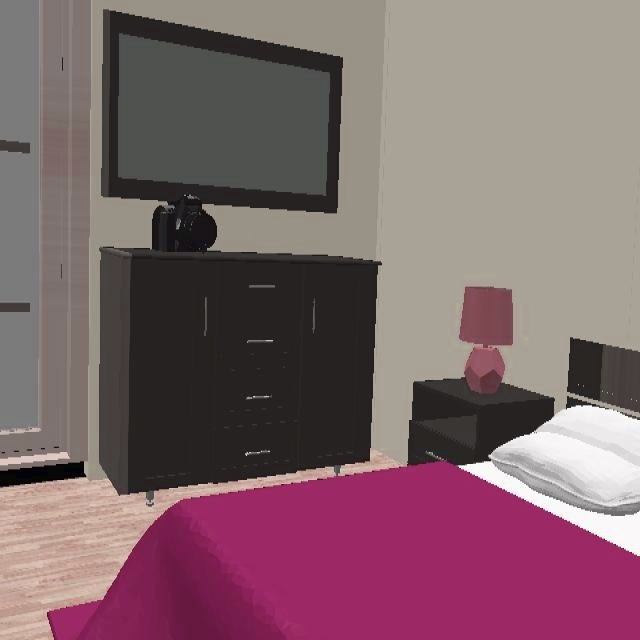bed: (48, 337, 640, 640)
cabinet: (96, 251, 376, 495)
lamp: (458, 287, 513, 397)
nighttable: (409, 379, 557, 467)
pillow: (465, 407, 640, 536)
